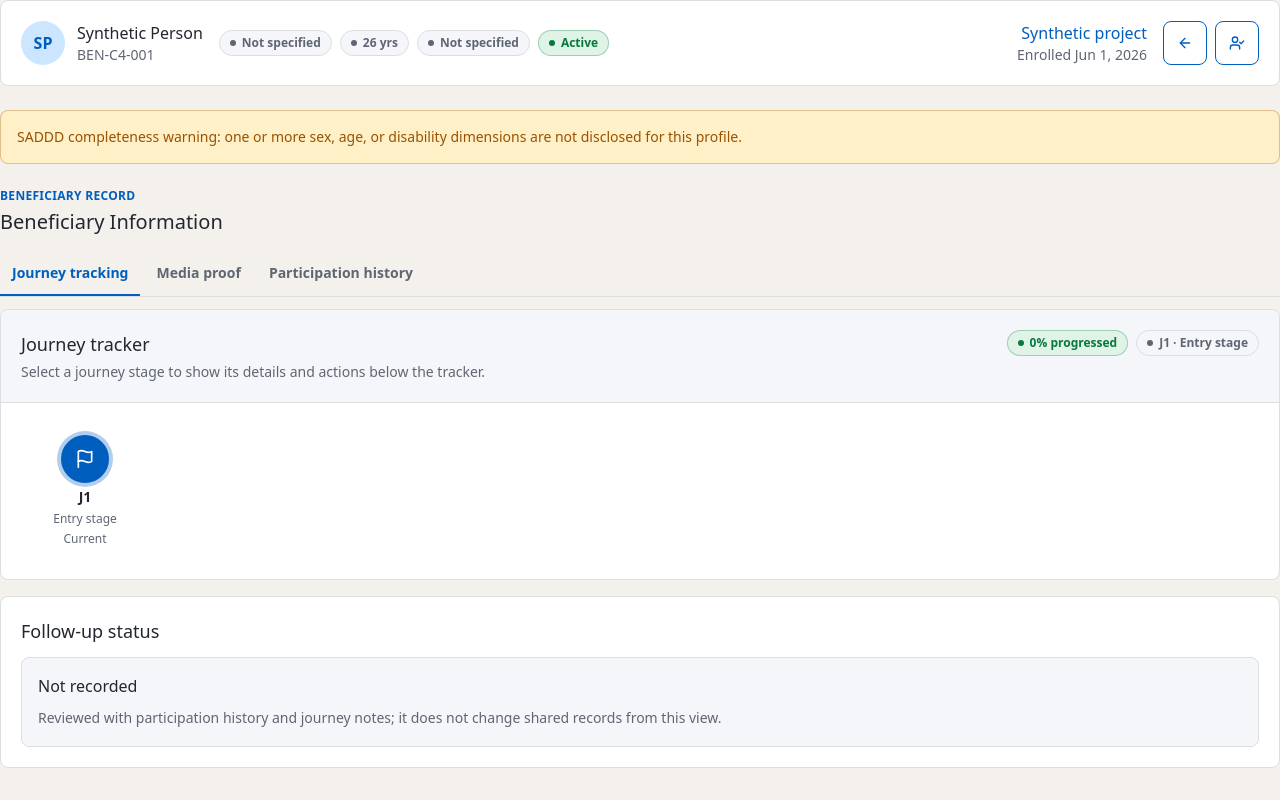
Test: BeneficiaryDetail assessments › record score › keeps inputs and shows the server message on failure
Click the button "J1 Entry stage Current": point(85, 491) [37,435,133,547]
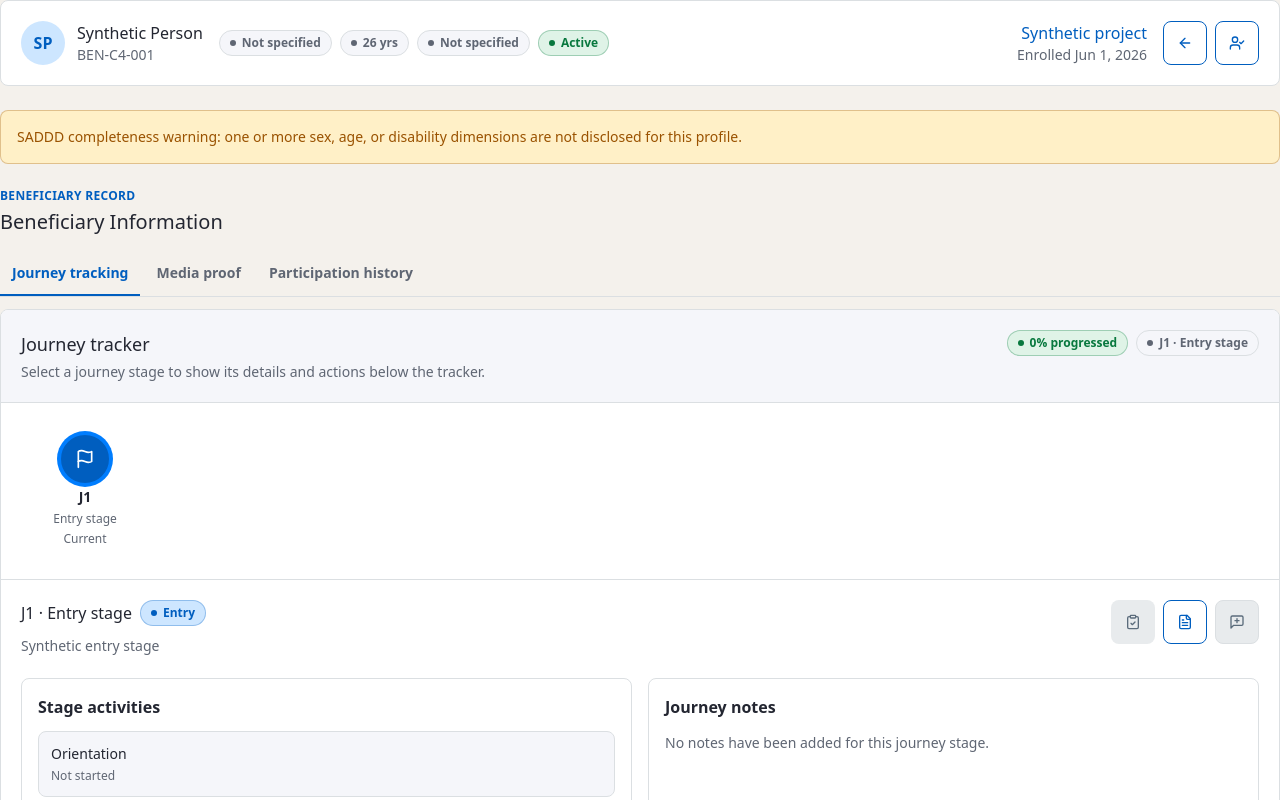
Click the button named "View assessment": point(1185, 622) [1163,600,1207,644]
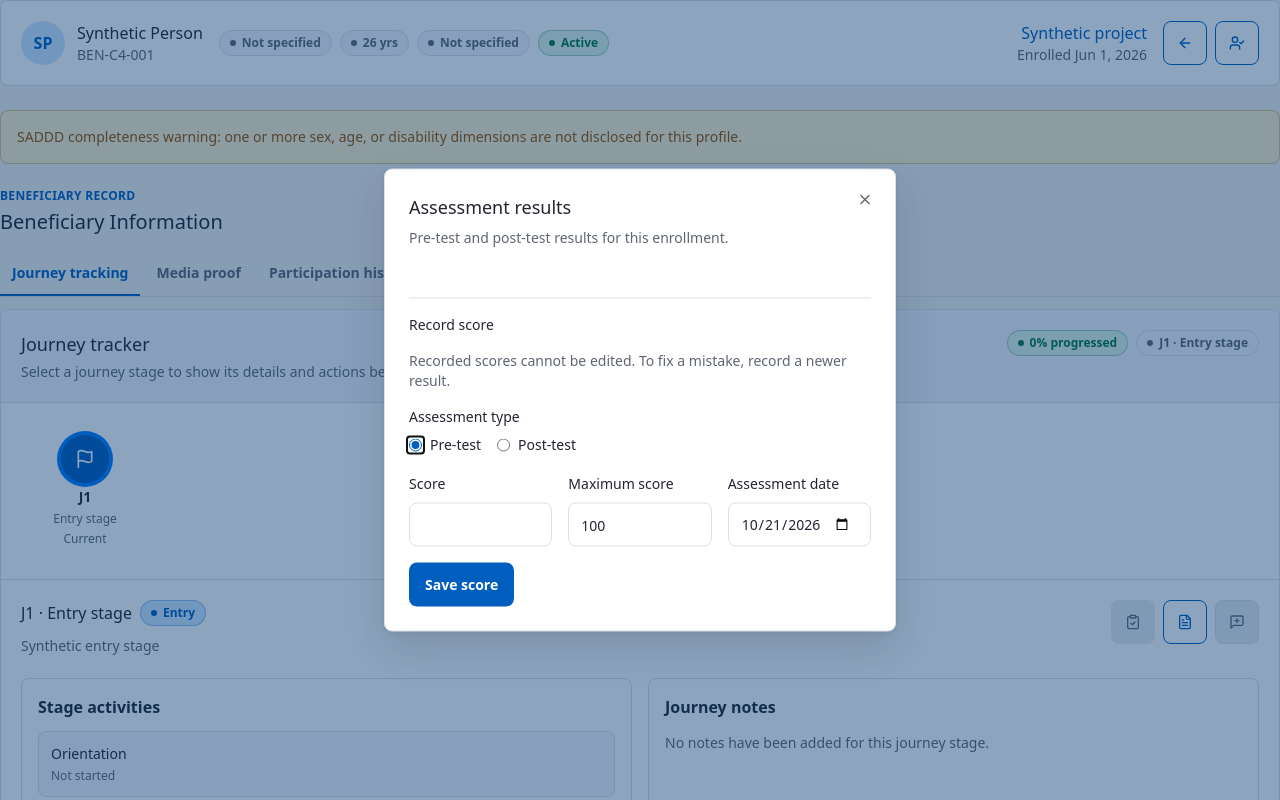
In the field labelled "Score": point(481, 524) [409,502,552,546], type "40"
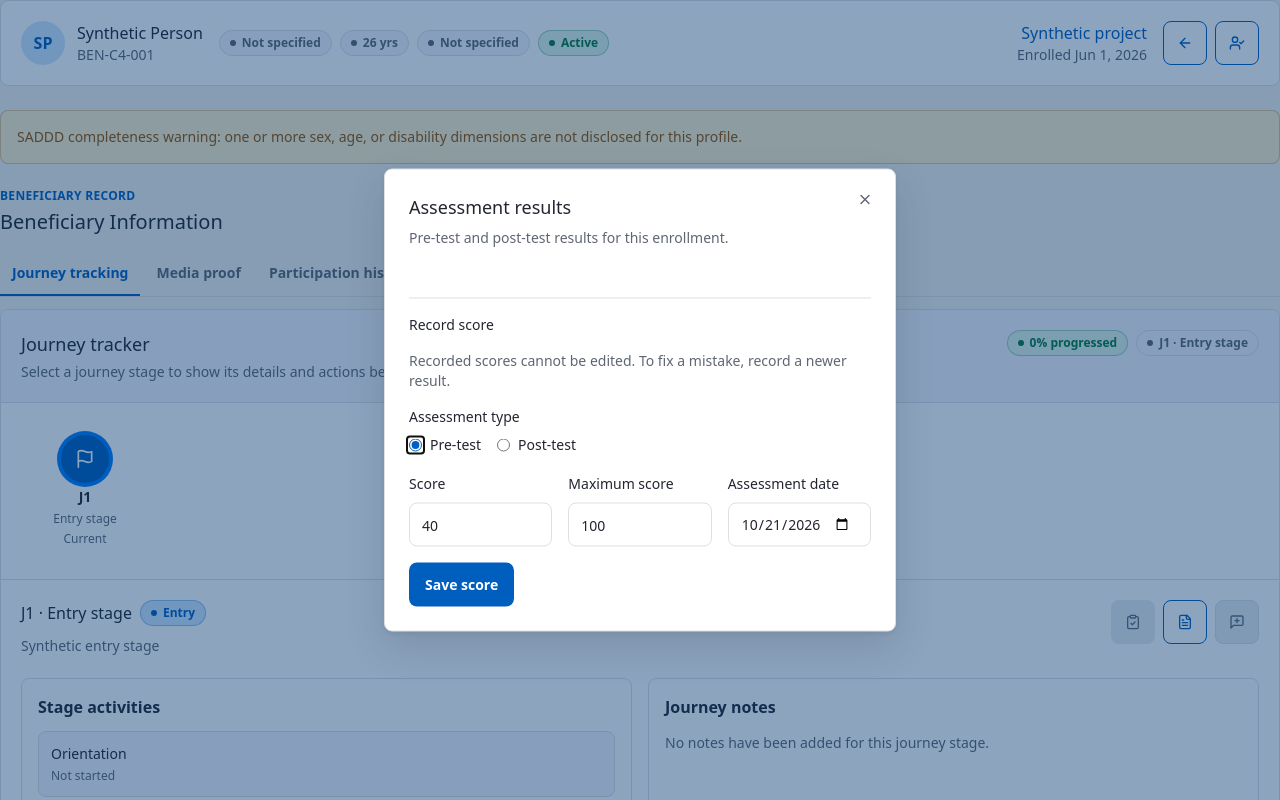
Click the button "Save score": point(462, 584) [409,562,514,606]
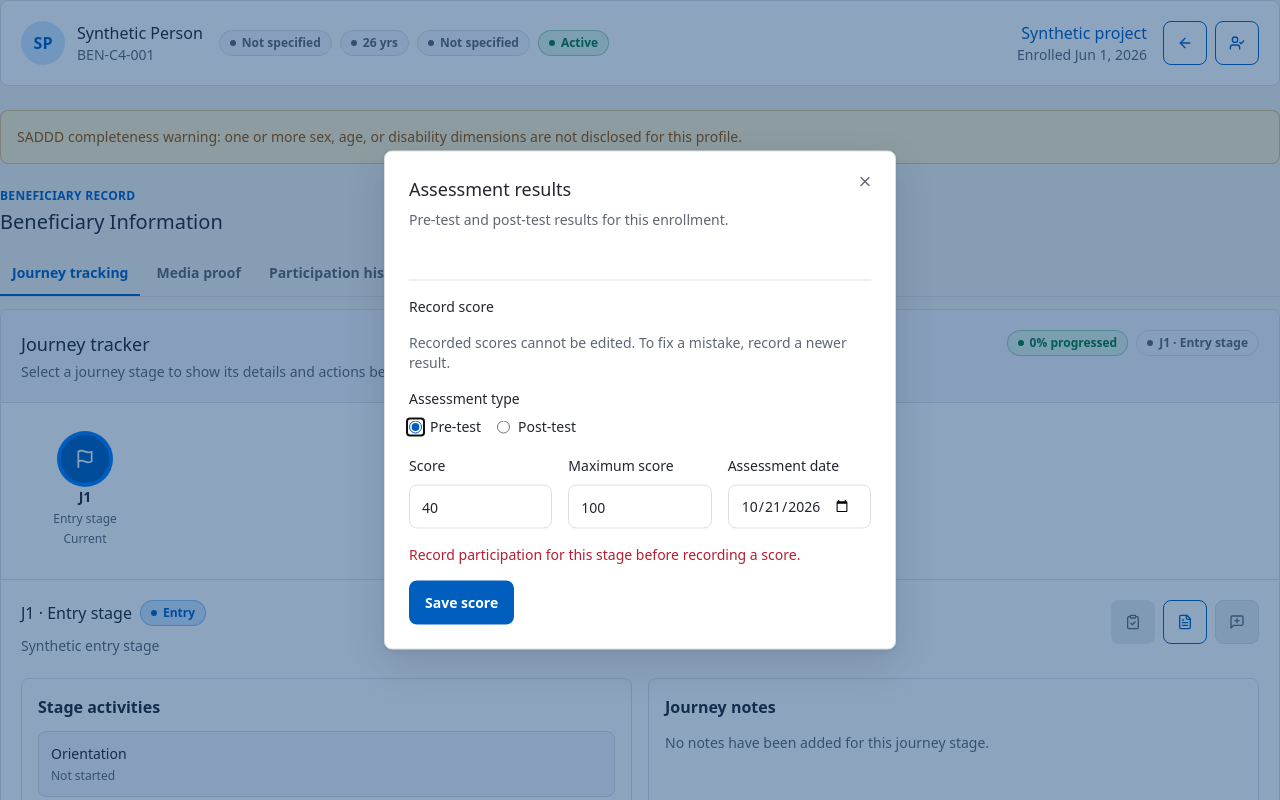
expect the message shows "Record participation for this stage": met, box [409,544,800,564]
